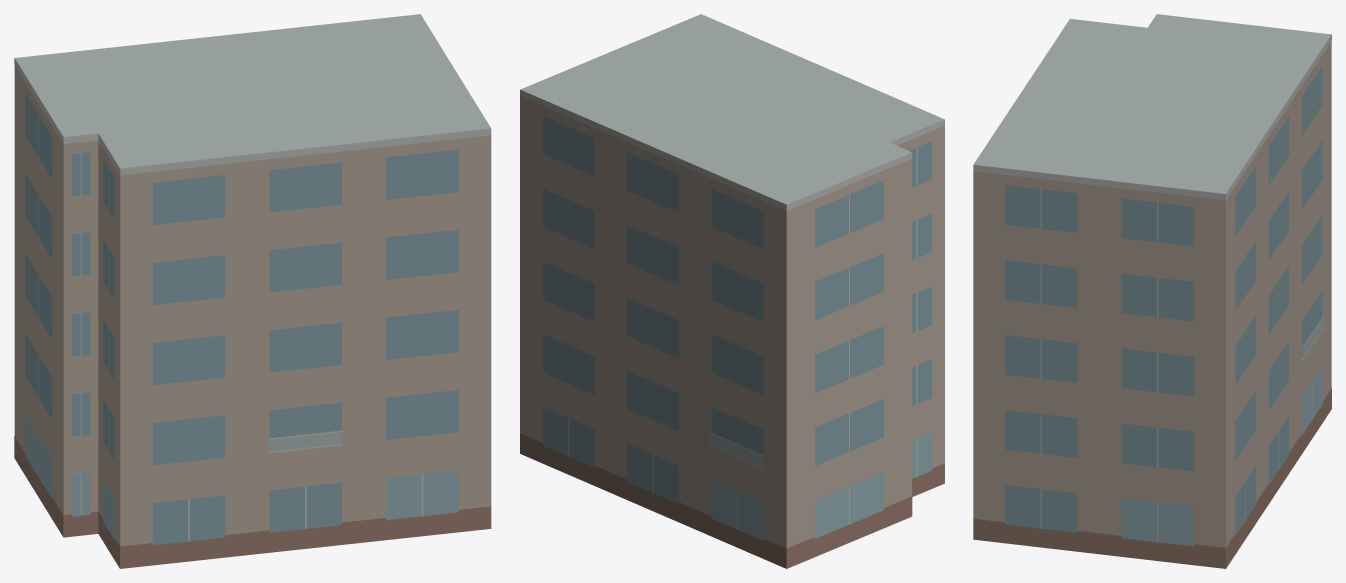
File: survey-upis-33013859.glb
3 renders of one model, left to right at view 1: azimuth 30°, elevation 25°; view 2: azimuth 150°, elevation 25°; view 3: azimuth 270°, elevation 25°, orthographic. The views are drawn at different scales.
Parts seen in each view (by area): view 1: survey-upis-33013859.tmp; view 2: survey-upis-33013859.tmp; view 3: survey-upis-33013859.tmp.
Part boxes in pixels (bbox=[...]): survey-upis-33013859.tmp: bbox=[14, 14, 491, 568]; survey-upis-33013859.tmp: bbox=[520, 14, 944, 568]; survey-upis-33013859.tmp: bbox=[973, 14, 1331, 568].
Bounding box in the file's own units: 14.64 × 14.2 × 12.32.
